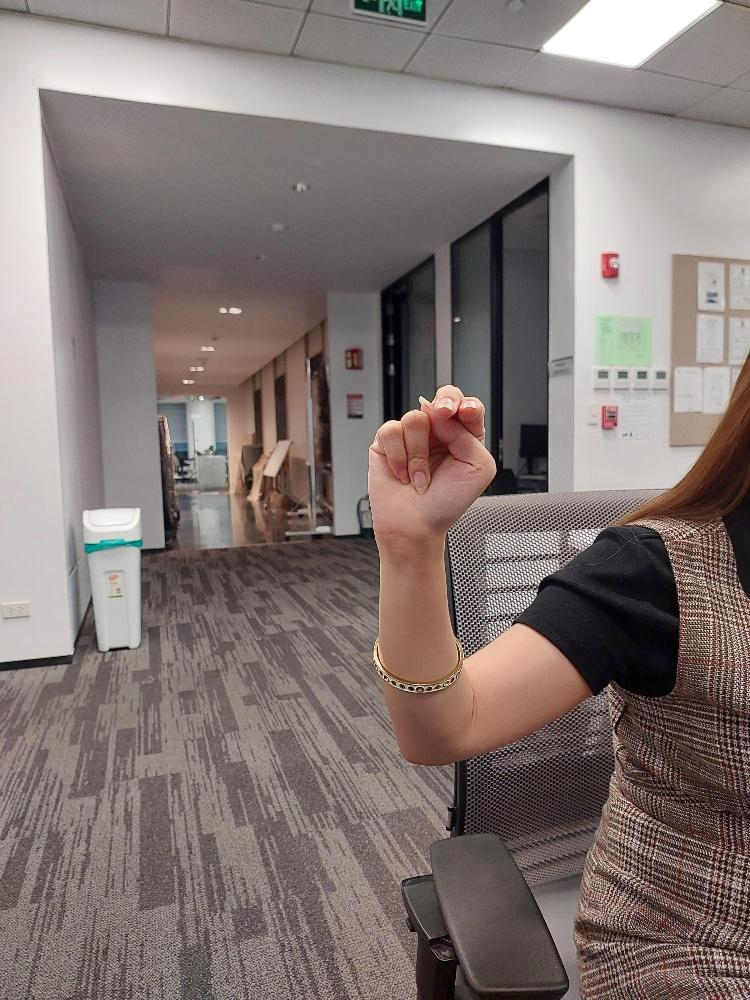n: (364, 381, 499, 549)
